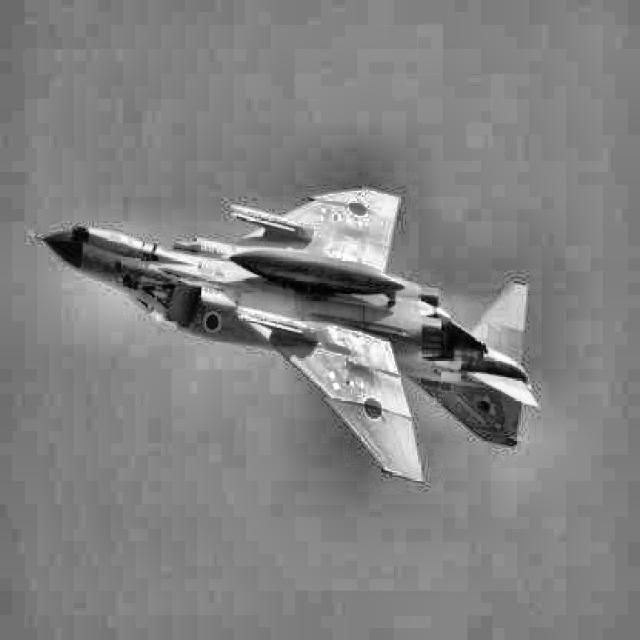F4: (26, 185, 540, 483)
